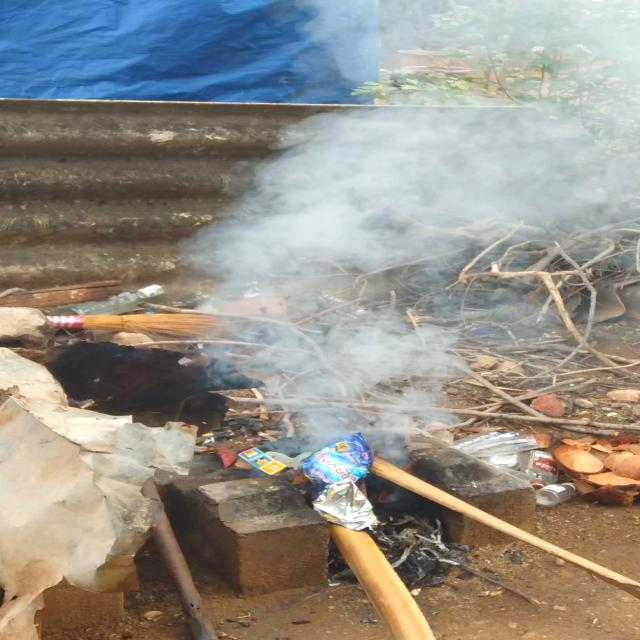firerotation: (171, 0, 640, 472)
